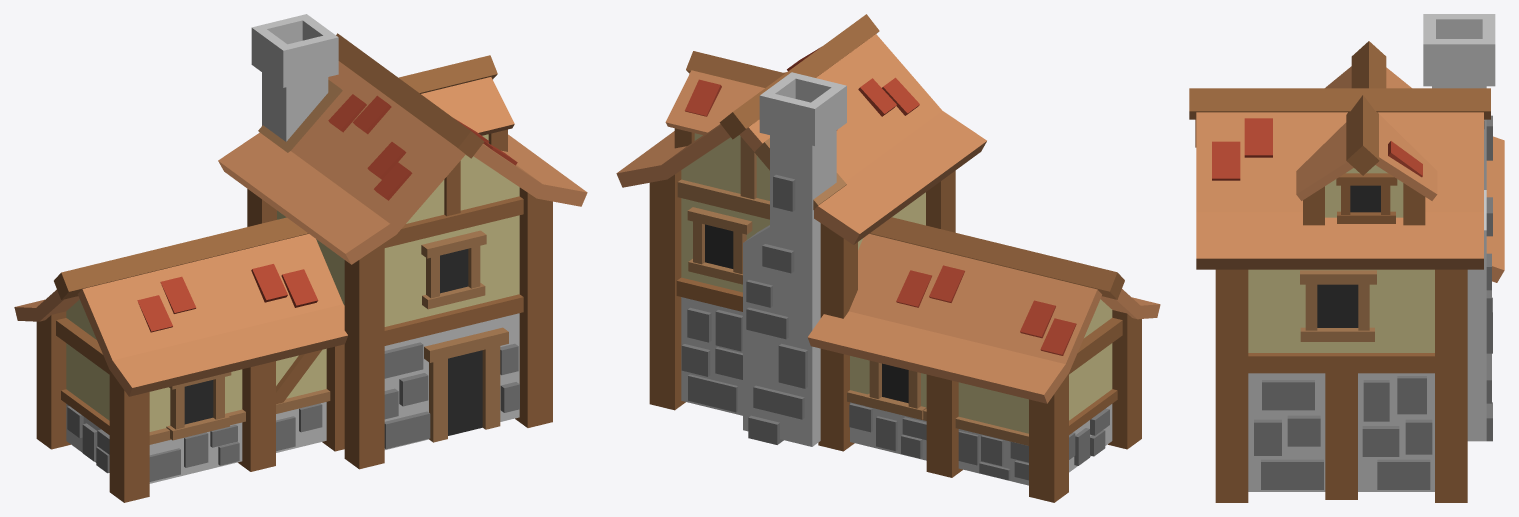
The model's file is PeasantHouseT2lv3.fbx.
The picture shows the model from 3 angles, left to right: view 1: azimuth 30°, elevation 25°; view 2: azimuth 150°, elevation 25°; view 3: azimuth 270°, elevation 25°; orthographic projection. The views are drawn at different scales.
Visible parts, largest first — view 1: Cube.043, Cube, Cube.037, Cube.003, Cube.049, Cube.002, Cube.166, Cube.001, Cube.159, Cube.004, Cube.006, Cube.042 (+36 smaller); view 2: Cube.051, Cube.049, Cube.037, Cube, Cube.007, Cube.162, Cube.166, Cube.004, Cube.001, Cube.008, Cube.159, Cube.042 (+39 smaller); view 3: Cube.042, Cube, Cube.049, Cube.002, Cube.007, Cube.159, Cube.167, Cube.084, Cube.051, Cube.285, Cube.286, Cube.284 (+24 smaller).
Part boxes in pixels (x1,y1,x2,y2): Cube.043: (77,234,347,396); Cube: (66,155,519,483); Cube.037: (218,61,465,264); Cube.003: (344,243,384,469); Cube.049: (251,14,338,141); Cube.002: (515,187,552,427); Cube.166: (54,217,308,299); Cube.001: (109,370,149,502); Cube.159: (336,33,484,158); Cube.004: (36,311,70,449); Cube.006: (238,361,275,471); Cube.042: (473,134,587,206); Cube.051: (807,233,1101,403); Cube.049: (743,72,846,446); Cube.037: (739,34,986,244); Cube: (681,135,1112,485); Cube.007: (649,170,685,410); Cube.162: (818,223,857,451); Cube.166: (869,217,1124,299); Cube.004: (1029,373,1068,502); Cube.001: (1108,310,1141,449); Cube.008: (926,374,962,477); Cube.159: (719,14,879,139); Cube.042: (616,72,786,187); Cube.042: (1196,112,1483,269); Cube: (1248,269,1434,491); Cube.049: (1423,14,1495,441); Cube.002: (1215,269,1248,502); Cube.007: (1435,269,1467,502); Cube.159: (1189,88,1490,119); Cube.167: (1325,373,1357,499); Cube.084: (1248,353,1434,373); Cube.051: (1386,67,1504,282); Cube.285: (1296,122,1353,200); Cube.286: (1346,95,1379,175); Cube.284: (1375,114,1437,200).
Size of the model in its own units: 1067 by 787 by 575.
